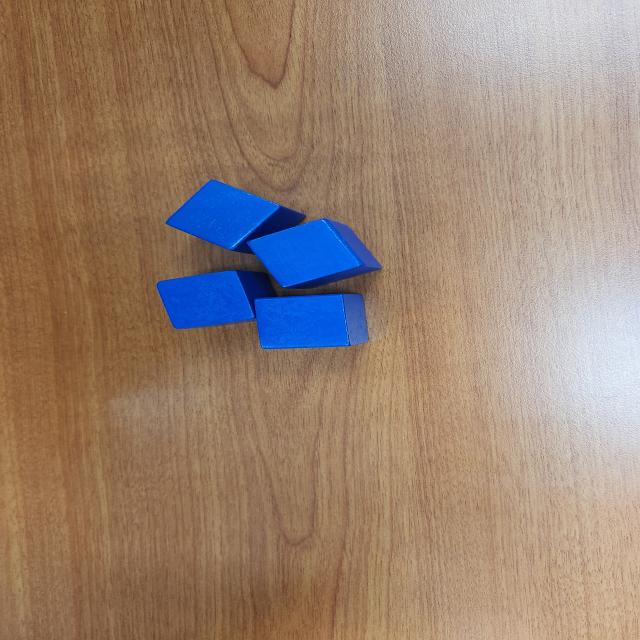blue: (161, 179, 308, 256), (247, 218, 384, 290), (156, 269, 278, 329), (252, 293, 370, 350)
